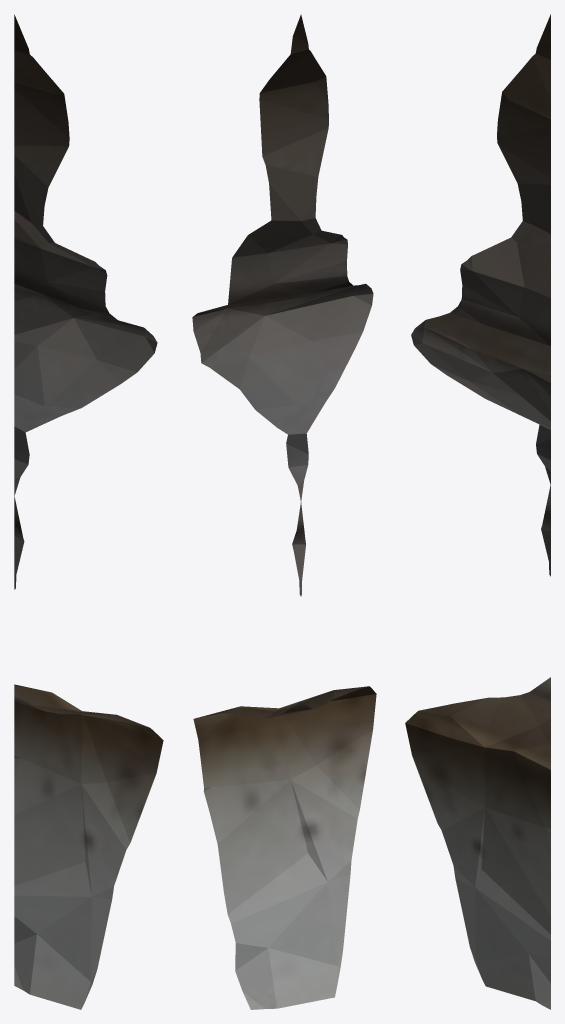
3 renders of one model, left to right at view 1: azimuth 90°, elevation 25°; view 2: azimuth 150°, elevation 25°; view 3: azimuth 270°, elevation 25°, orthographic. The views are drawn at different scales.
Size of the model in its own units: 0.072 by 0.6383 by 0.0867.
1 material, 1 textured.
